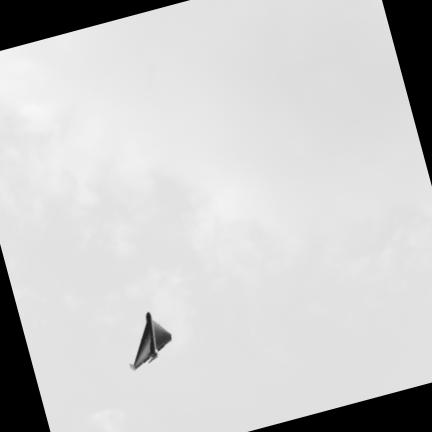Shahed: (130, 312, 170, 369)
